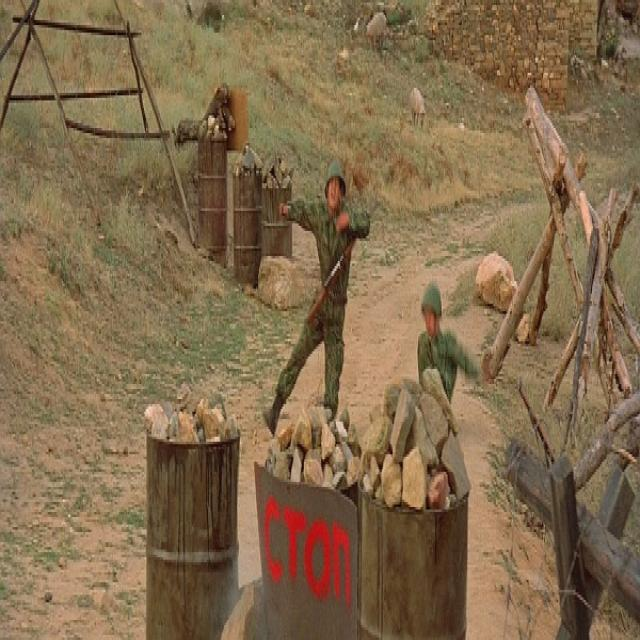rifle: (307, 231, 359, 331)
